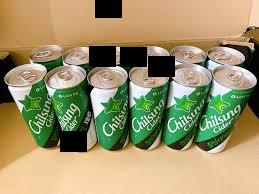chilsungcider_zero: (87, 72, 129, 150)
